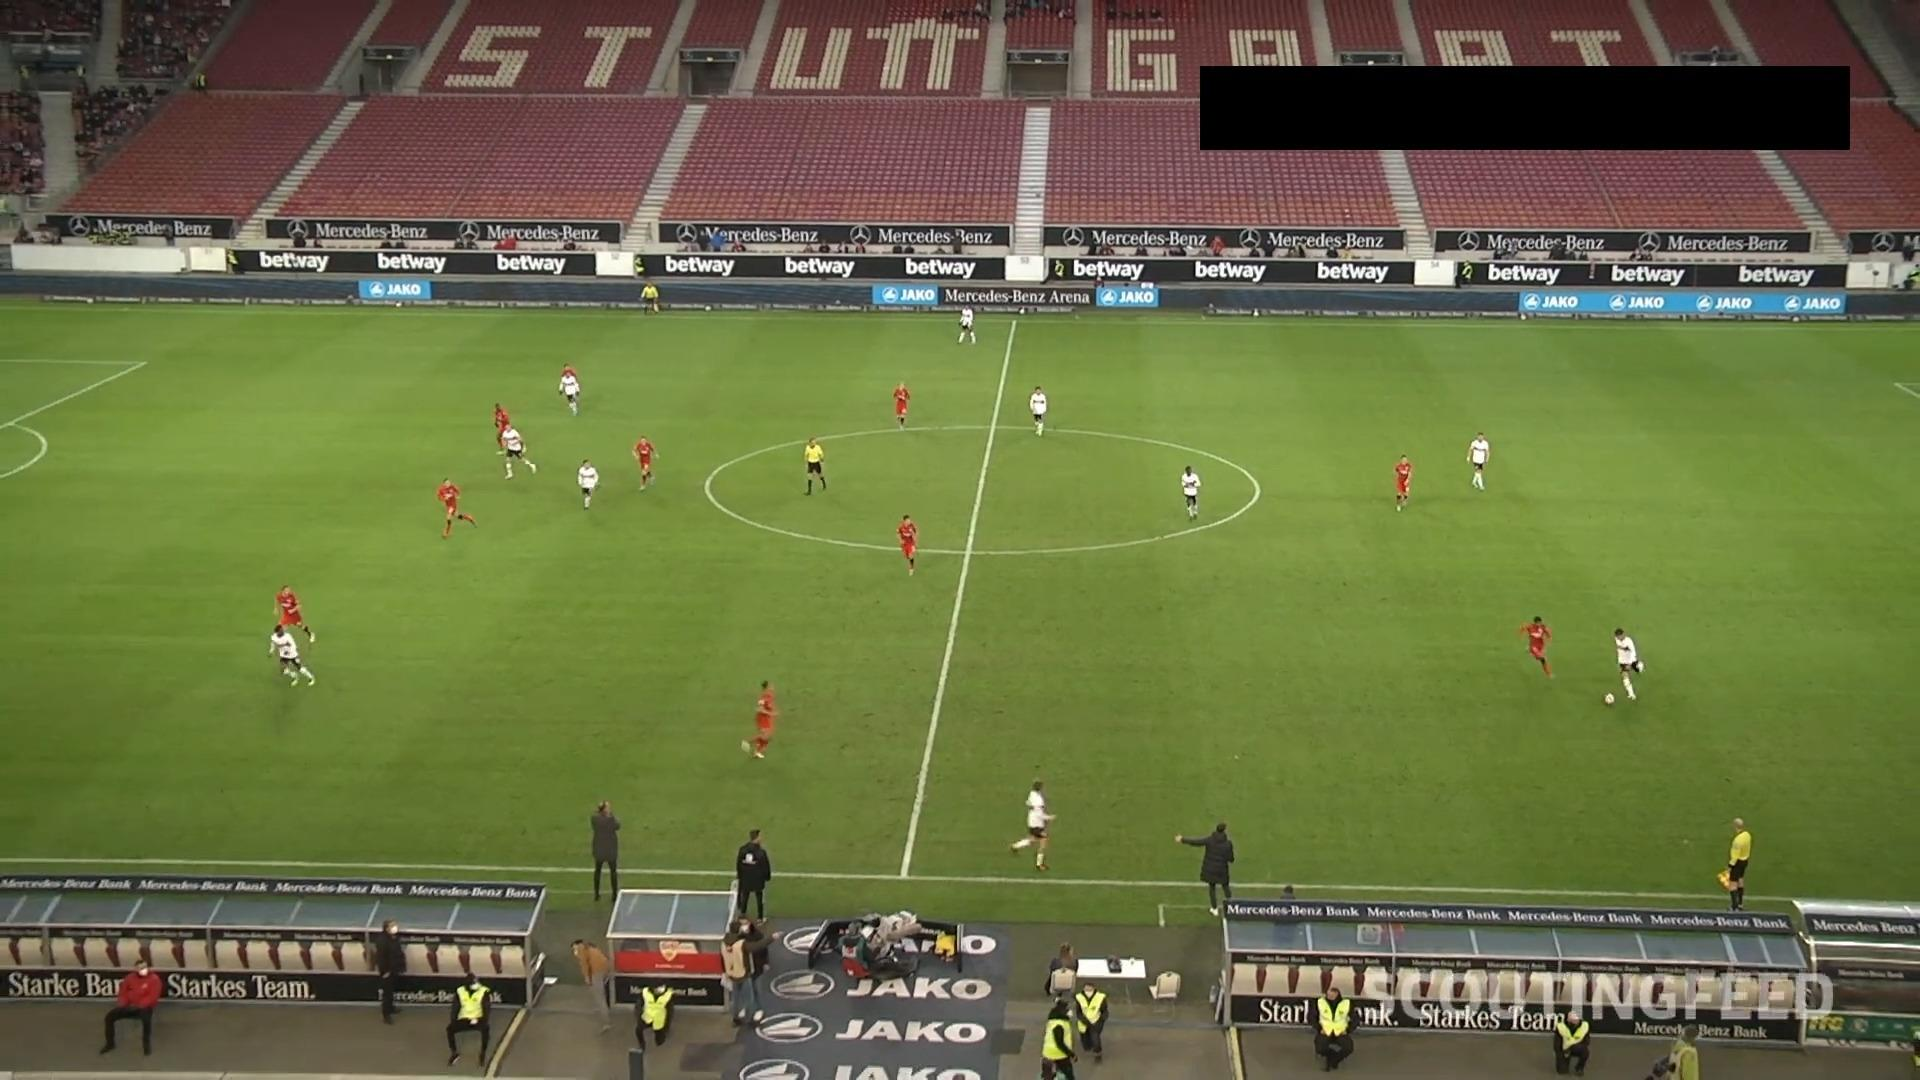ball: (1601, 691, 1617, 705)
